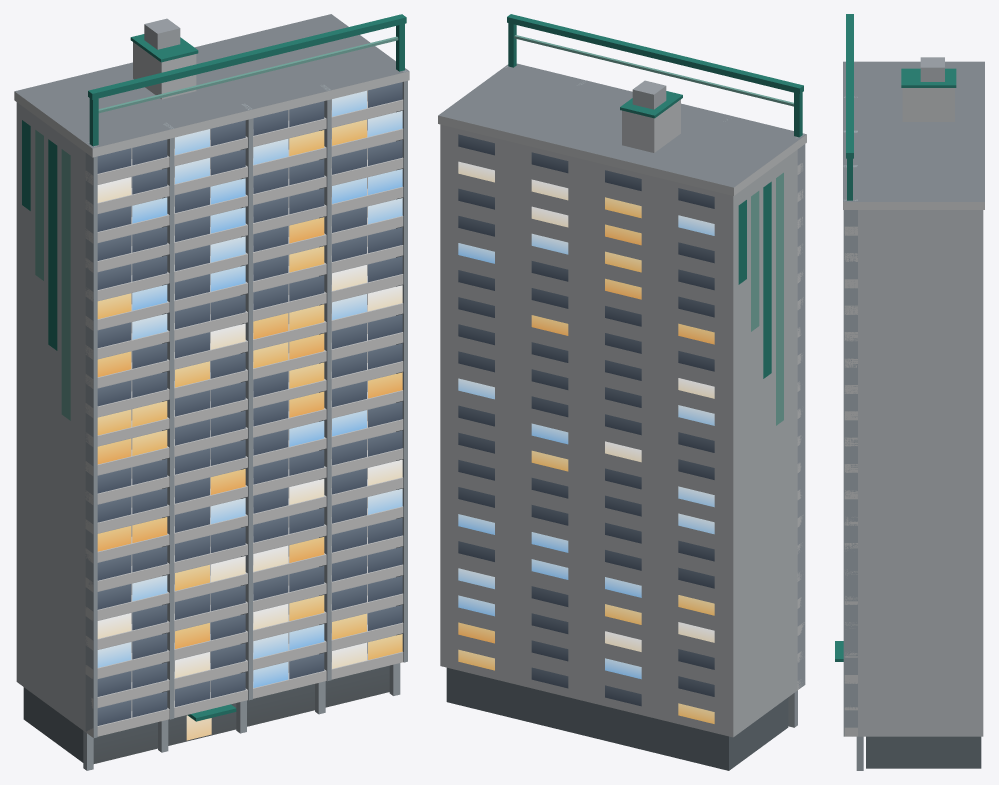
Rendered from bld_apt_B_intact.meshopt.glb.
3 views of the same model, side by side, from view 1: azimuth 30°, elevation 25°; view 2: azimuth 150°, elevation 25°; view 3: azimuth 270°, elevation 25° (orthographic). The views are drawn at different scales.
Parts seen in each view (by area): view 1: bld_apt_B_intact; view 2: bld_apt_B_intact; view 3: bld_apt_B_intact.
Boxes of the visible parts, <box> form: bld_apt_B_intact: <box>14,14,409,770</box>; bld_apt_B_intact: <box>438,14,806,770</box>; bld_apt_B_intact: <box>835,14,984,770</box>.
Size of the model in its own units: 33.1 by 68.4 by 14.95.
